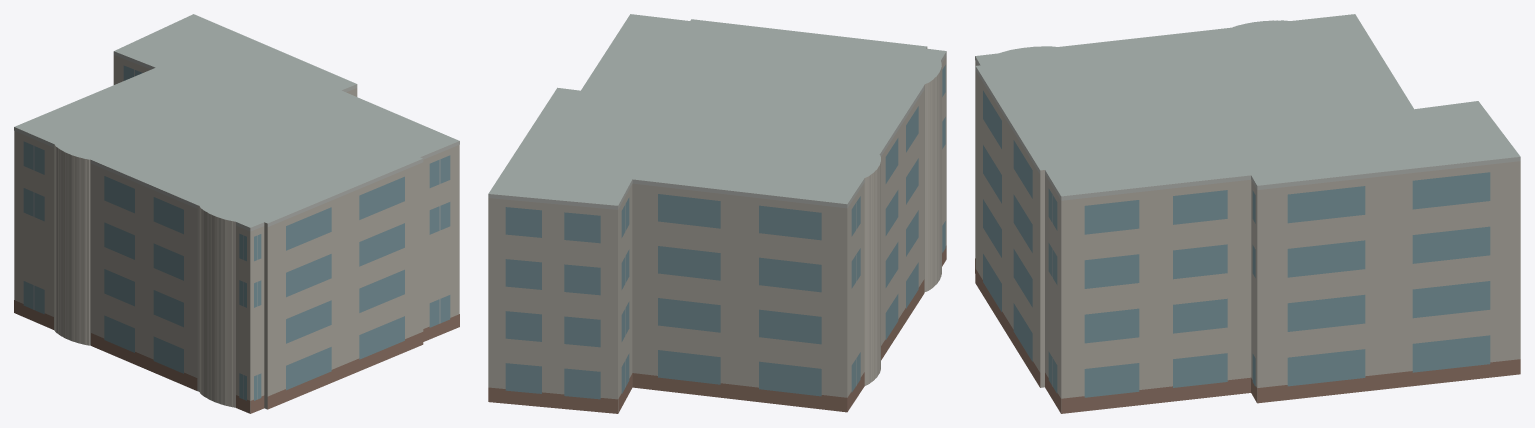
The model's file is survey-upis-32651103.glb.
3 renders of one model, left to right at view 1: azimuth 30°, elevation 25°; view 2: azimuth 150°, elevation 25°; view 3: azimuth 270°, elevation 25°, orthographic. The views are drawn at different scales.
Visible parts, largest first — view 1: survey-upis-32651103.tmp; view 2: survey-upis-32651103.tmp; view 3: survey-upis-32651103.tmp.
Boxes of the visible parts, <box> form: survey-upis-32651103.tmp: <box>14,14,459,413</box>; survey-upis-32651103.tmp: <box>488,14,946,413</box>; survey-upis-32651103.tmp: <box>975,14,1520,413</box>.
Size of the model in its own units: 21.96 by 12.2 by 27.74.
